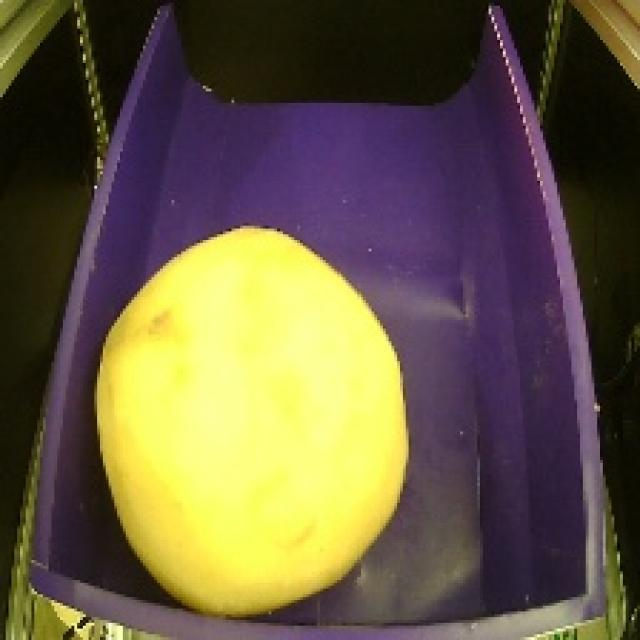full_potato: (79, 210, 421, 628)
